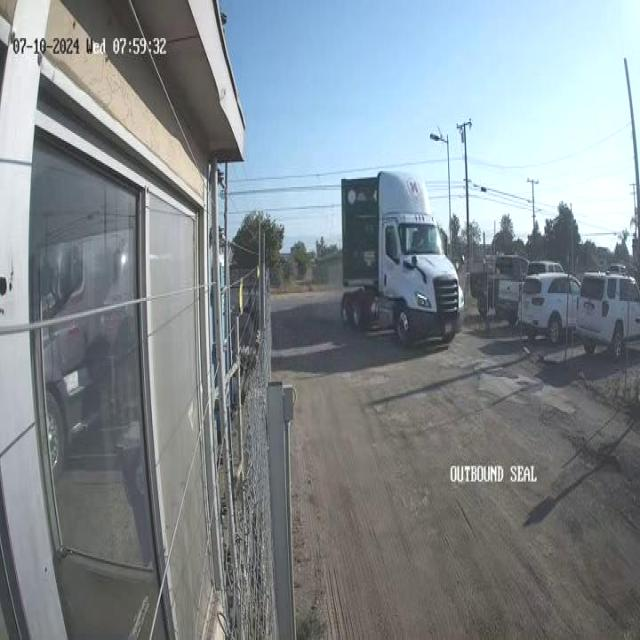CONTAINER: (339, 168, 381, 285)
